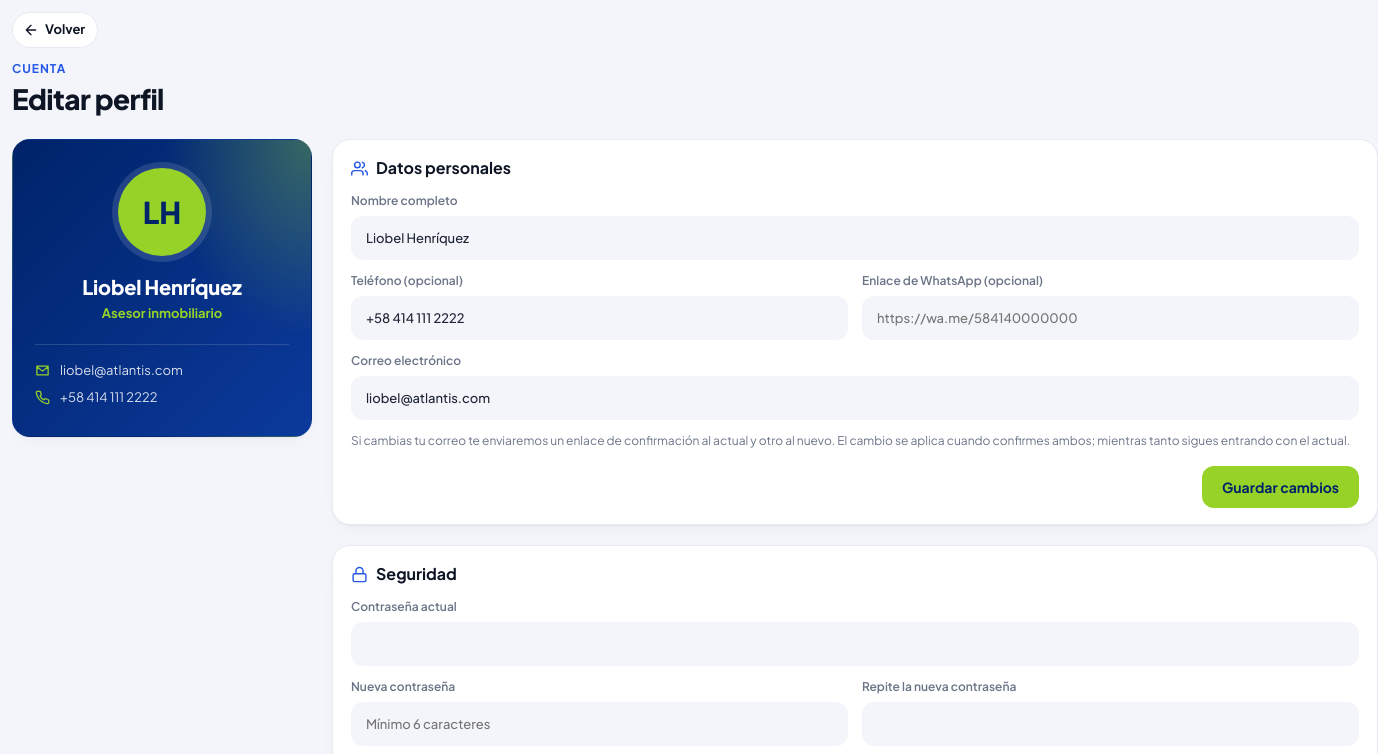
it: guarda los datos, actualiza el nombre de la sesión y no pide cambio de correo si no cambió
Replace the text in the field labelled "Nombre completo" with "Liobel H." at (855, 238), box top-left (351, 216), bottom-right (1359, 260)
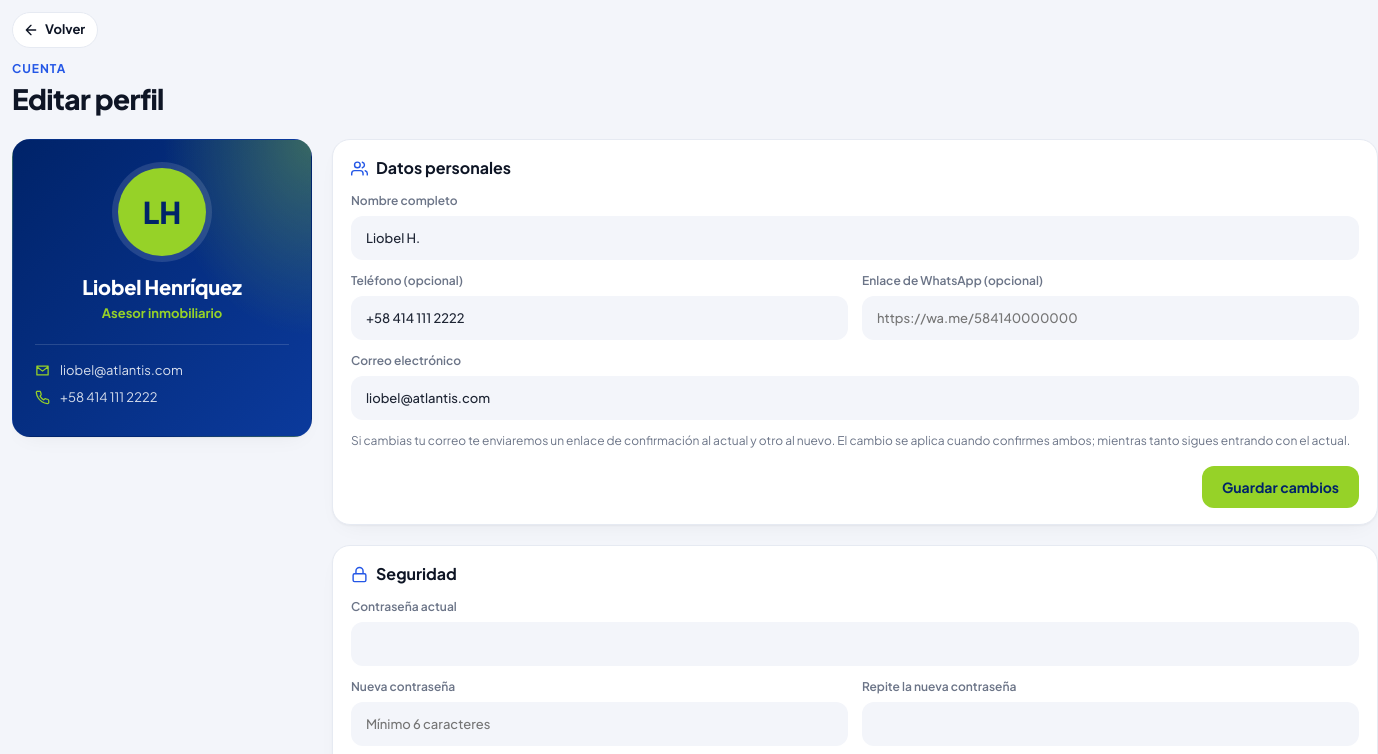
Type "+58 412 555 0000" into the field labelled "Enlace de WhatsApp (opcional)" at (1110, 318), box top-left (862, 296), bottom-right (1359, 340)
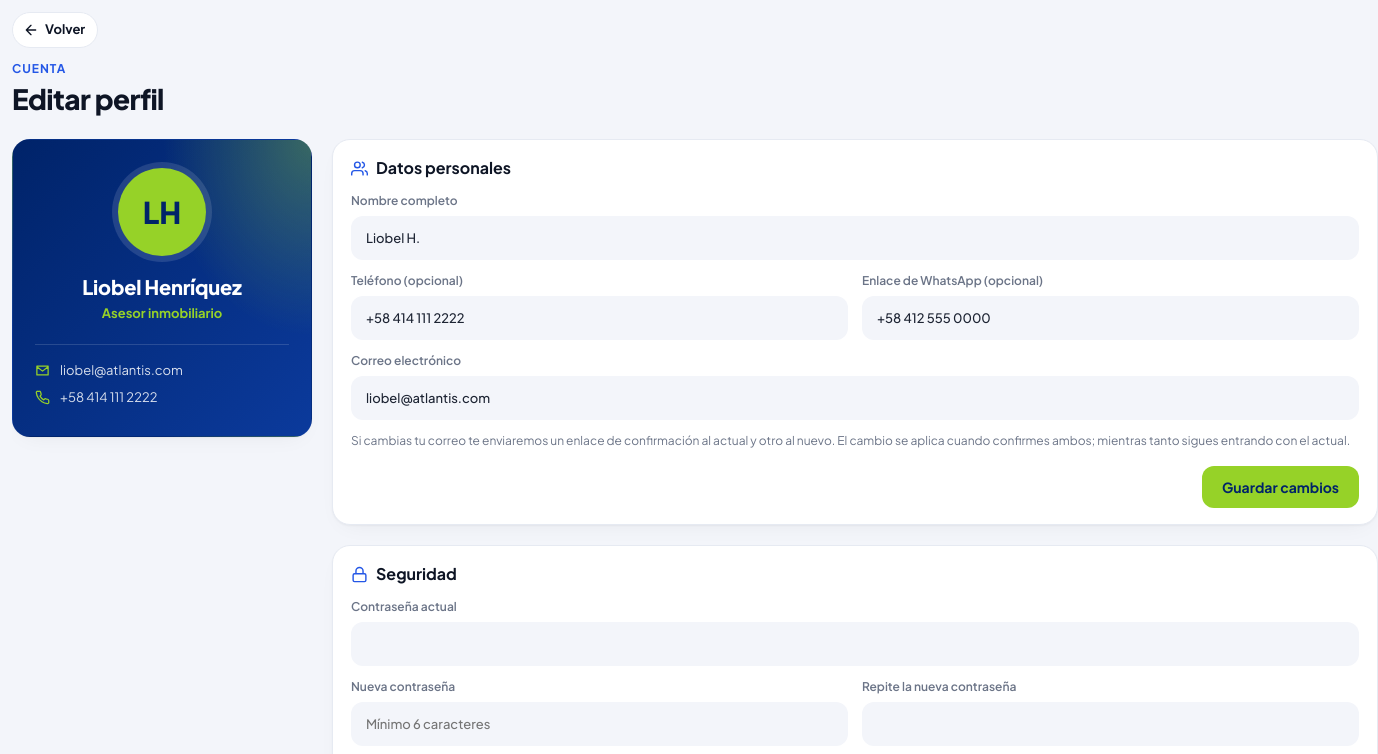
Click the button "Guardar cambios" at (1280, 487), box top-left (1202, 466), bottom-right (1359, 508)
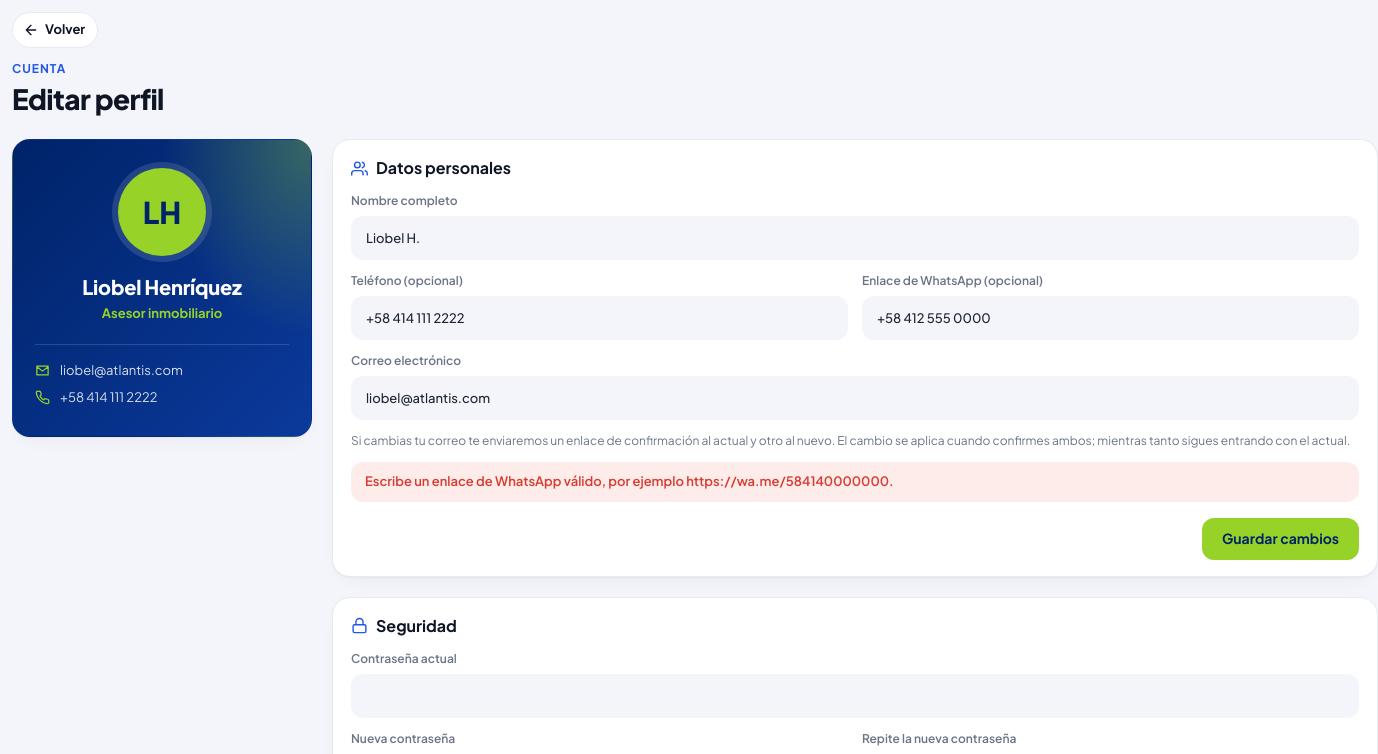
Expected: the message shows "enlace de WhatsApp válido", top-left (365, 473), bottom-right (894, 489)
Replace the text in the field labelled "Enlace de WhatsApp (opcional)" with "https://wa.me/584125550000" at (1110, 318), box top-left (862, 296), bottom-right (1359, 340)
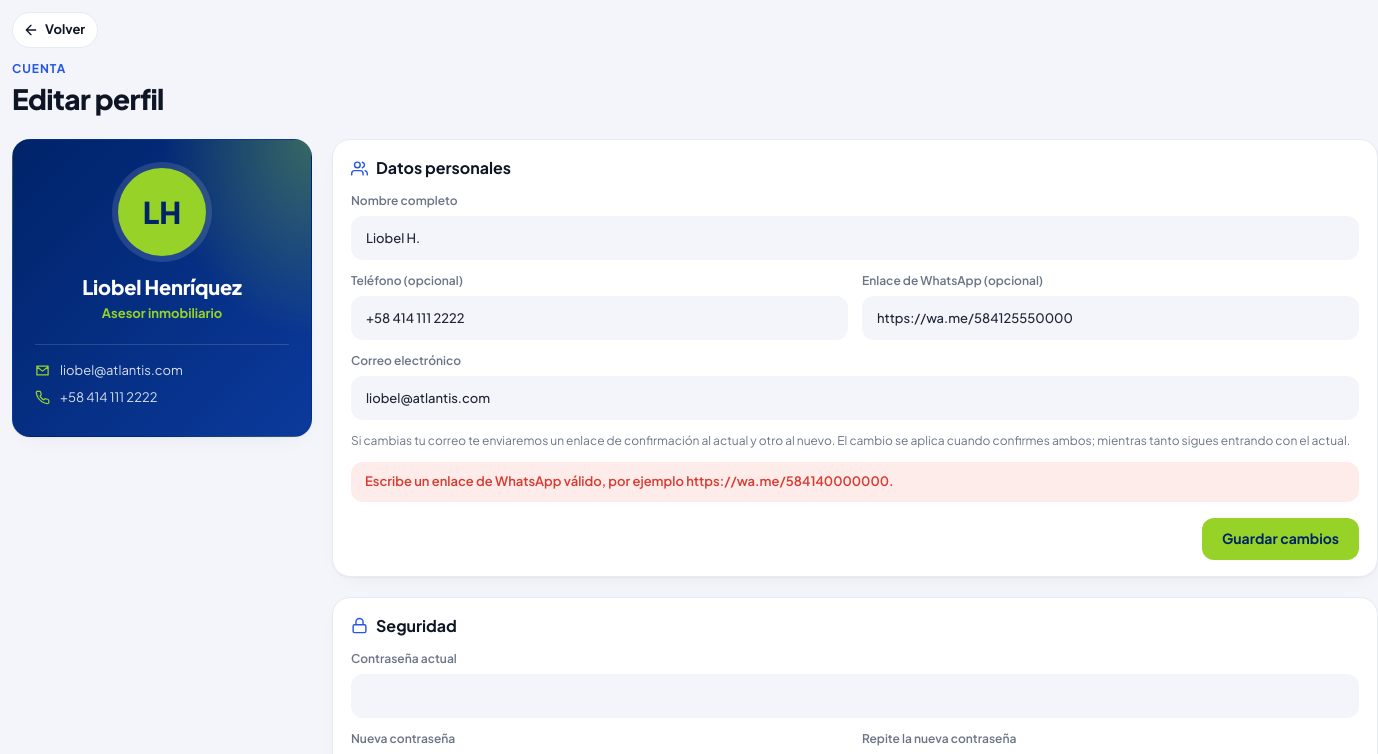
Click the button "Guardar cambios" at (1280, 539), box top-left (1202, 518), bottom-right (1359, 560)
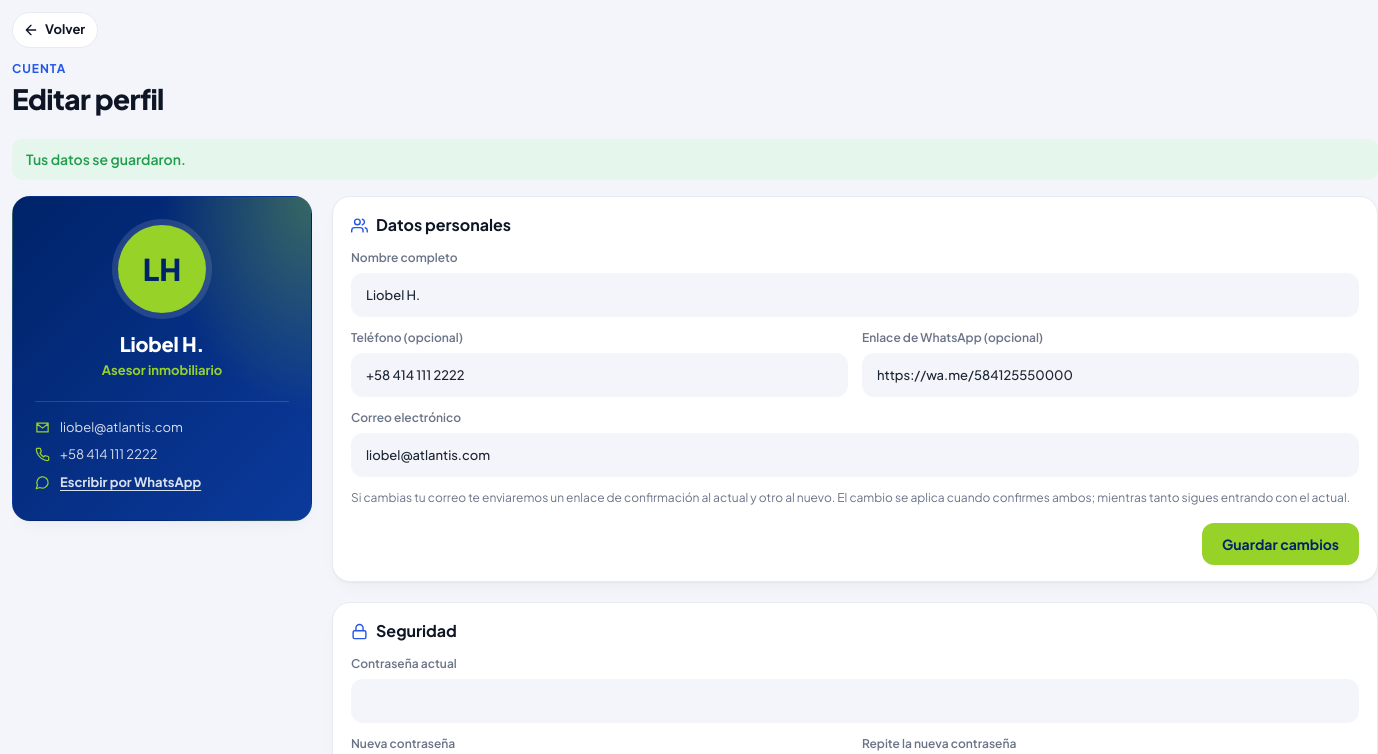
Expected: the heading "Liobel H." is shown, top-left (120, 329), bottom-right (204, 359)
Expected: the message reads "Tus datos se guardaron.", top-left (26, 150), bottom-right (186, 168)
